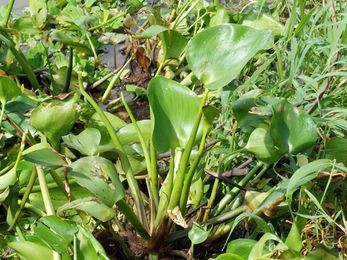water_hyacinth: (0, 24, 347, 260)
